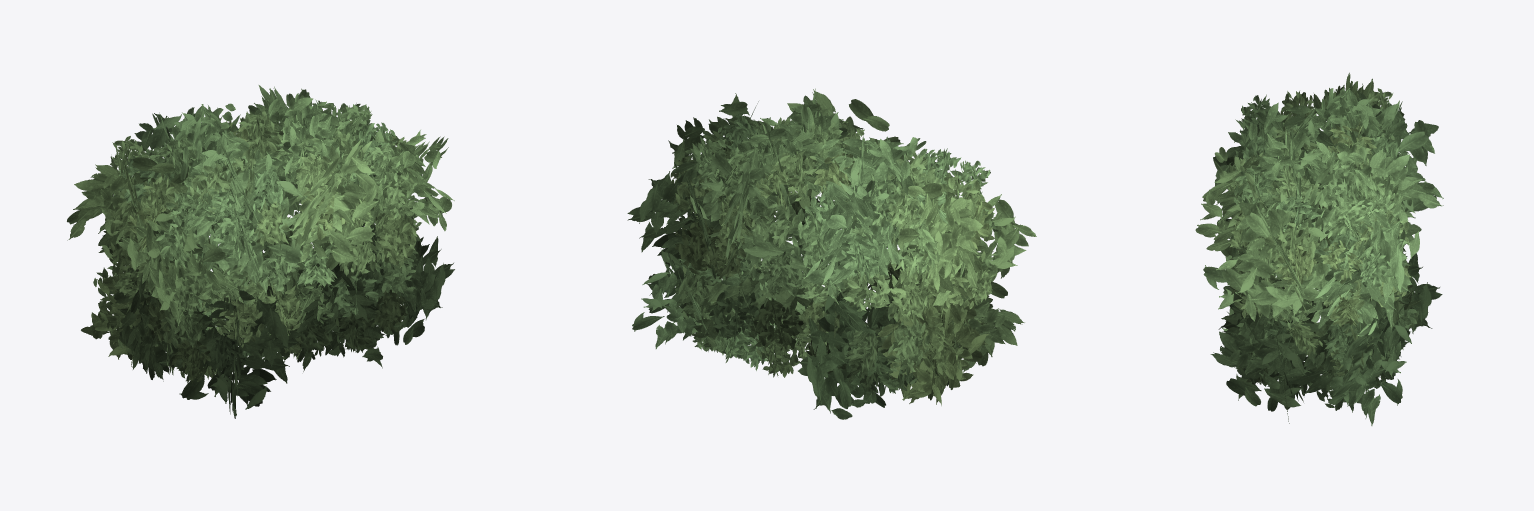
The model's file is seto.glb.
3 renders of one model, left to right at view 1: azimuth 30°, elevation 25°; view 2: azimuth 150°, elevation 25°; view 3: azimuth 270°, elevation 25°, orthographic. The views are drawn at different scales.
Visible parts, largest first — view 1: lejos, cerca; view 2: lejos, cerca; view 3: lejos, cerca.
Boxes of the visible parts, x1,y1,x2,y2 form: lejos: (67, 85, 454, 418); cerca: (93, 99, 423, 383); lejos: (627, 88, 1036, 419); cerca: (661, 111, 996, 396); lejos: (1195, 72, 1443, 425); cerca: (1222, 88, 1417, 407).
Bounding box in the file's own units: 2.82 × 2.37 × 2.15.
Materials: 1 (1 with a texture image).
